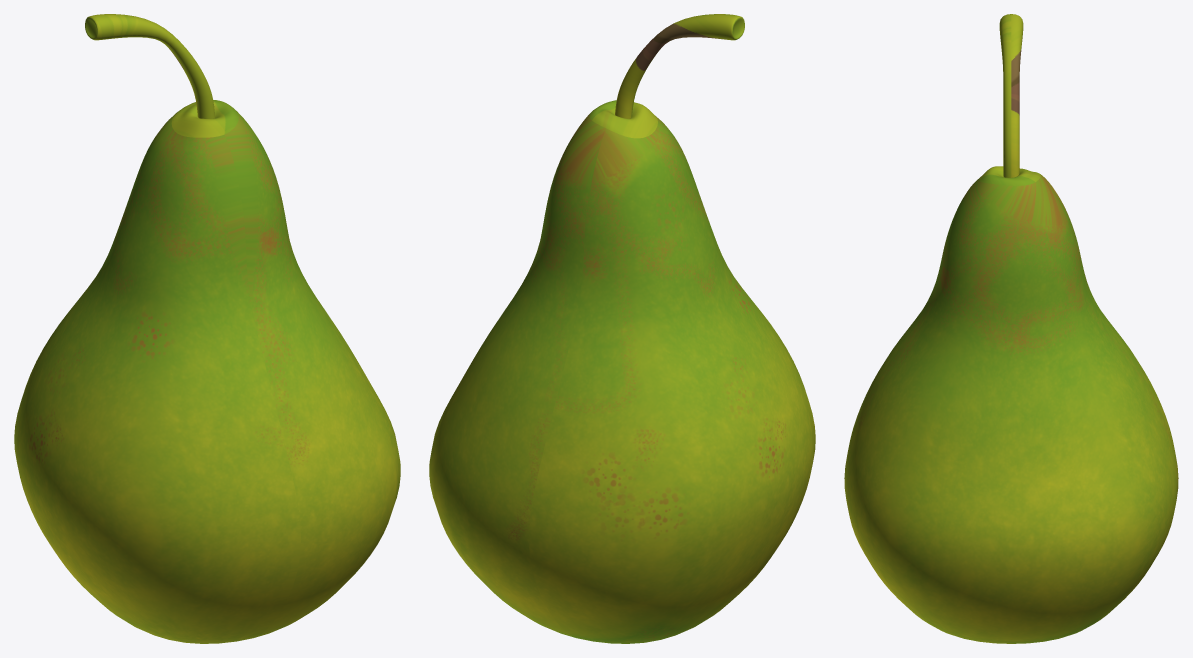
The model's file is fpera.glb.
3 views of the same model, side by side, from view 1: azimuth 30°, elevation 25°; view 2: azimuth 150°, elevation 25°; view 3: azimuth 270°, elevation 25° (orthographic). The views are drawn at different scales.
Visible parts, largest first — view 1: pear; view 2: pear; view 3: pear.
Boxes of the visible parts, x1,y1,x2,y2 form: pear: [14, 14, 400, 643]; pear: [429, 14, 815, 643]; pear: [844, 14, 1178, 643].
Bounding box in the file's own units: 2.06 × 3.74 × 2.05.
1 material, 1 textured.
